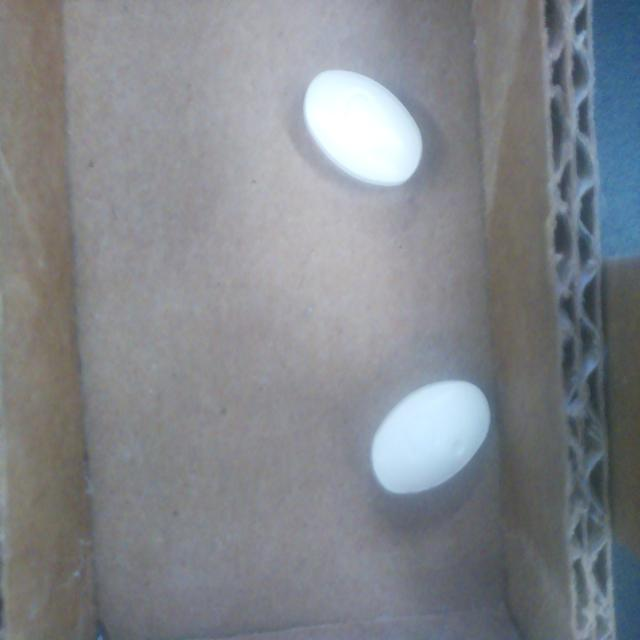pill: (304, 70, 425, 188), (371, 380, 490, 496)
